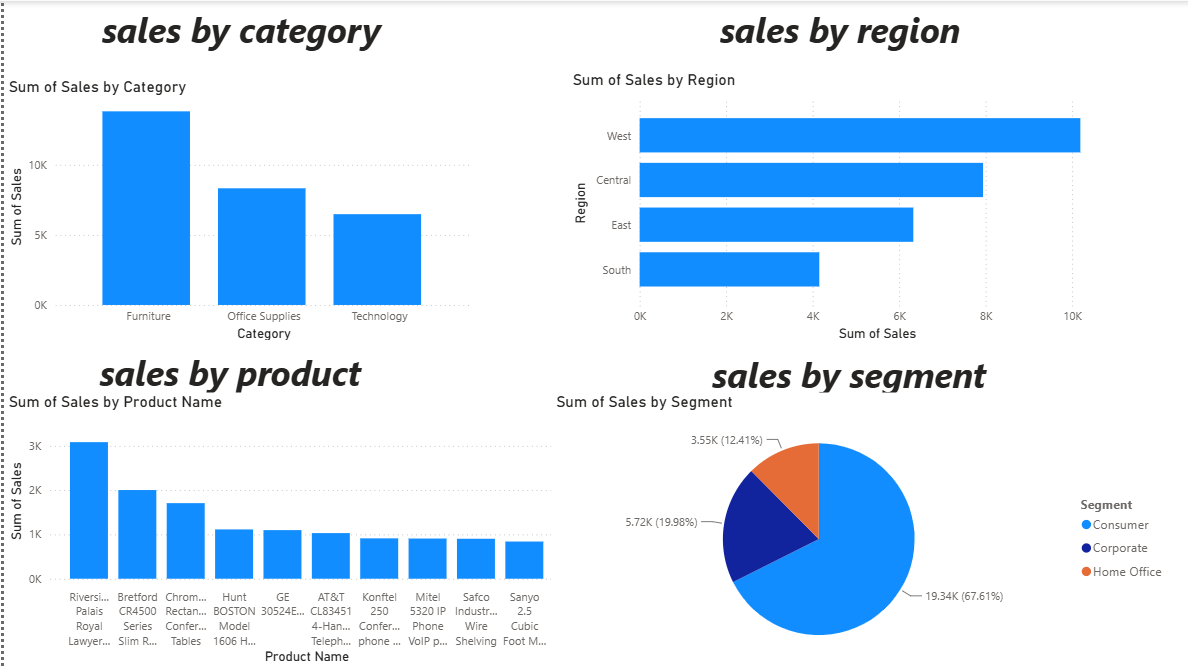

The dashboard page shown, as its layout file describes it:
{"tool":"powerbi","page":{"name":"Page 1","canvas":[1280,720],"ordinal":0},"visuals":[{"type":"columnChart","title":"Sales by Category","fields":{"Category":["sales_data_clean.Category"],"Y":["Sum(sales_data_clean.Sales)"]},"box":[50.9,109.8,540.8,308.6],"z":0},{"type":"clusteredBarChart","fields":{"Category":["sales_data_clean.Region"],"Y":["Sum(sales_data_clean.Sales)"]},"box":[628.3,109.8,593.3,308.6],"z":1000},{"type":"clusteredColumnChart","title":" Sales by Product Name","fields":{"Category":["sales_data_clean.Product Name"],"Y":["Sum(sales_data_clean.Sales)"]},"box":[50.9,445.4,540.8,275.2],"z":2000},{"type":"pieChart","title":"Sales by Segment","fields":{"Category":["sales_data_clean.Segment"],"Y":["Sum(sales_data_clean.Sales)"]},"box":[628.3,445.4,593.3,275.2],"z":3000},{"type":"textbox","box":[302.2,11.1,691.9,73.2],"z":4000}]}

Visuals, with their boxes in screenshot pixels (x1, y1, x2, y2), scaled from the page's 1280x720 canvas onto the 1188x666 screenshot:
"Sales by Category" columnChart: 47, 102, 549, 387
clusteredBarChart - sales_data_clean.Region x Sum(sales_data_clean.Sales): 583, 102, 1134, 387
" Sales by Product Name" clusteredColumnChart: 47, 412, 549, 665
"Sales by Segment" pieChart: 583, 412, 1134, 665
textbox: 280, 10, 923, 78
